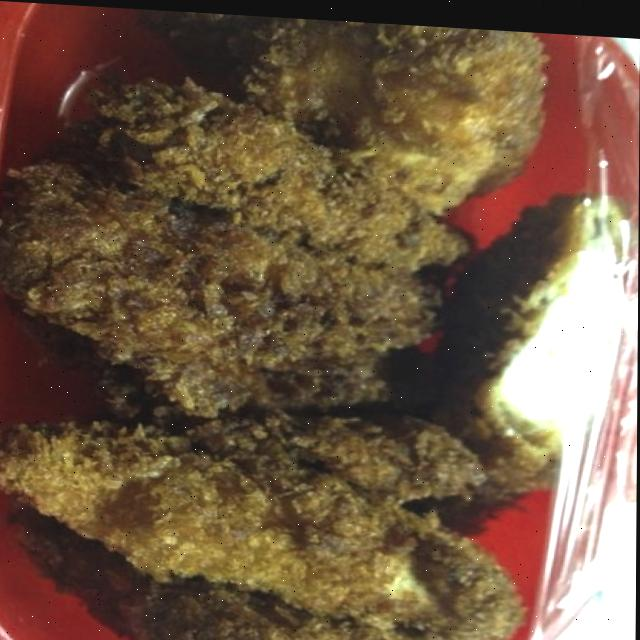鸡肉料理 含炸鸡: (12, 1, 576, 640)
